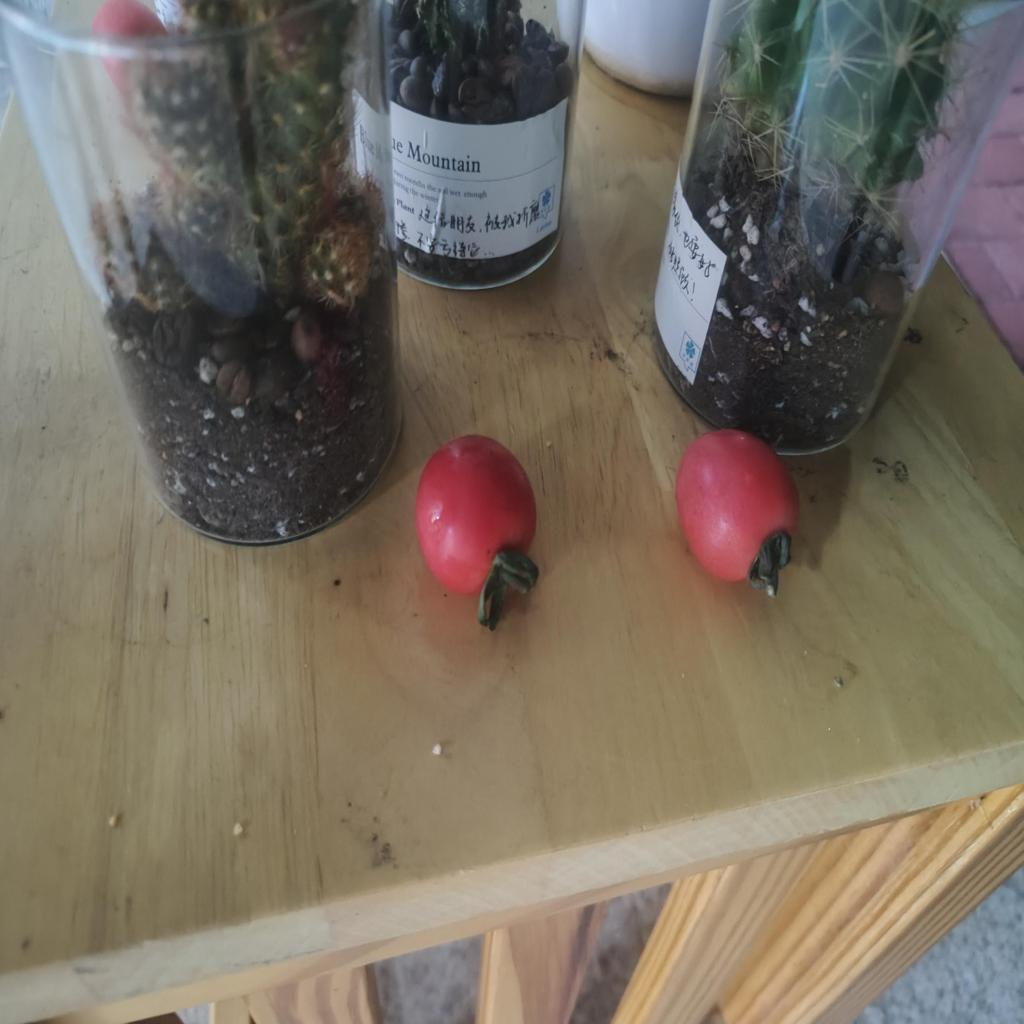tomato: (417, 439, 542, 619), (670, 432, 795, 590)
